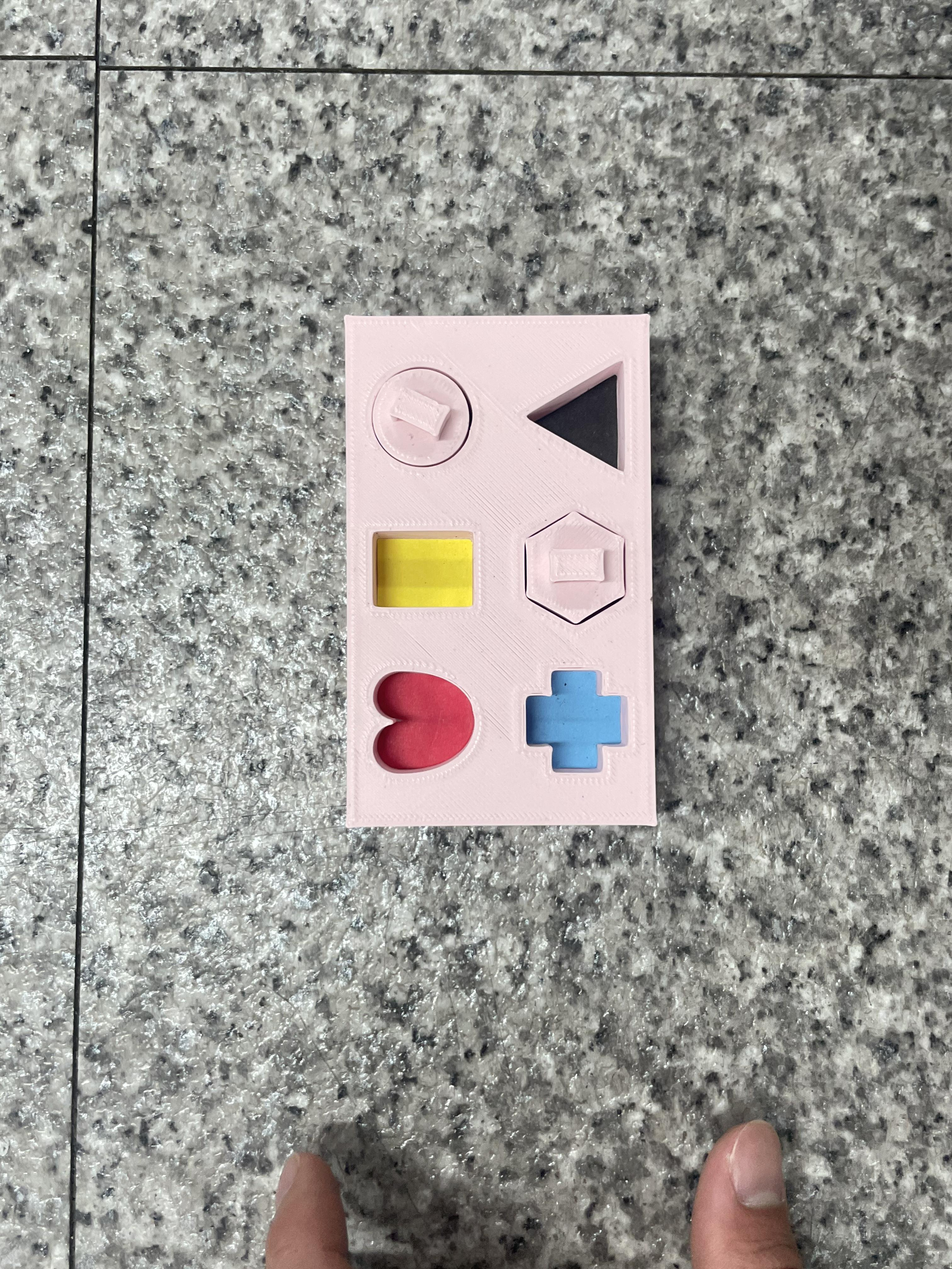unsolved: (334, 296, 682, 840)
